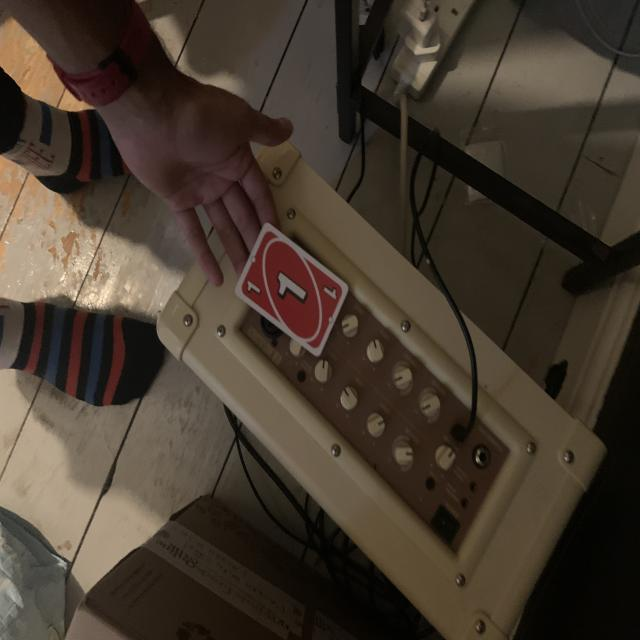lred-1: (245, 277, 264, 303)
